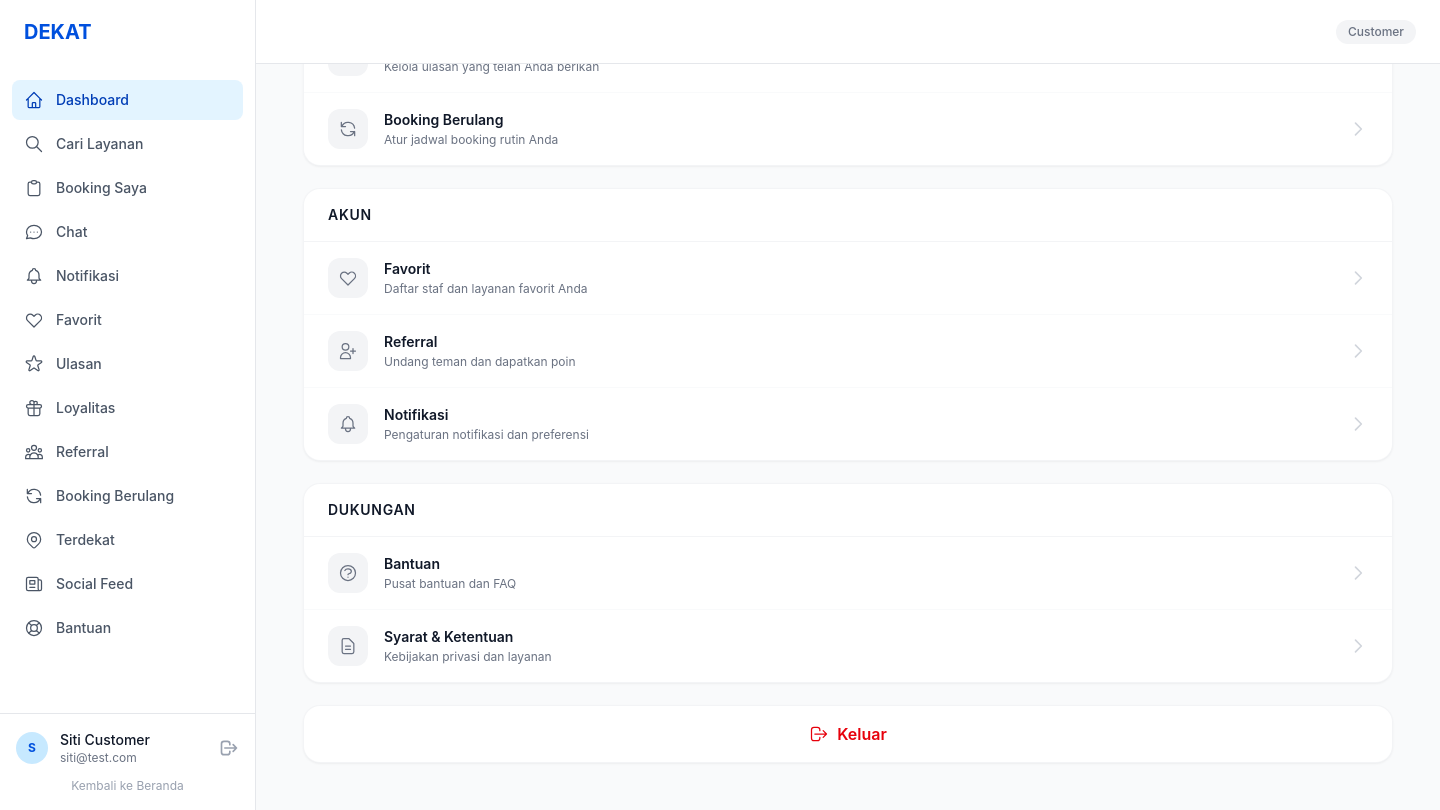
Test case: CustomerAccountPage › closes logout dialog when Batal is clicked
(page scrolled)
Click the button "Keluar". click: point(848, 734)
box: [304, 706, 1392, 762]
(page scrolled)
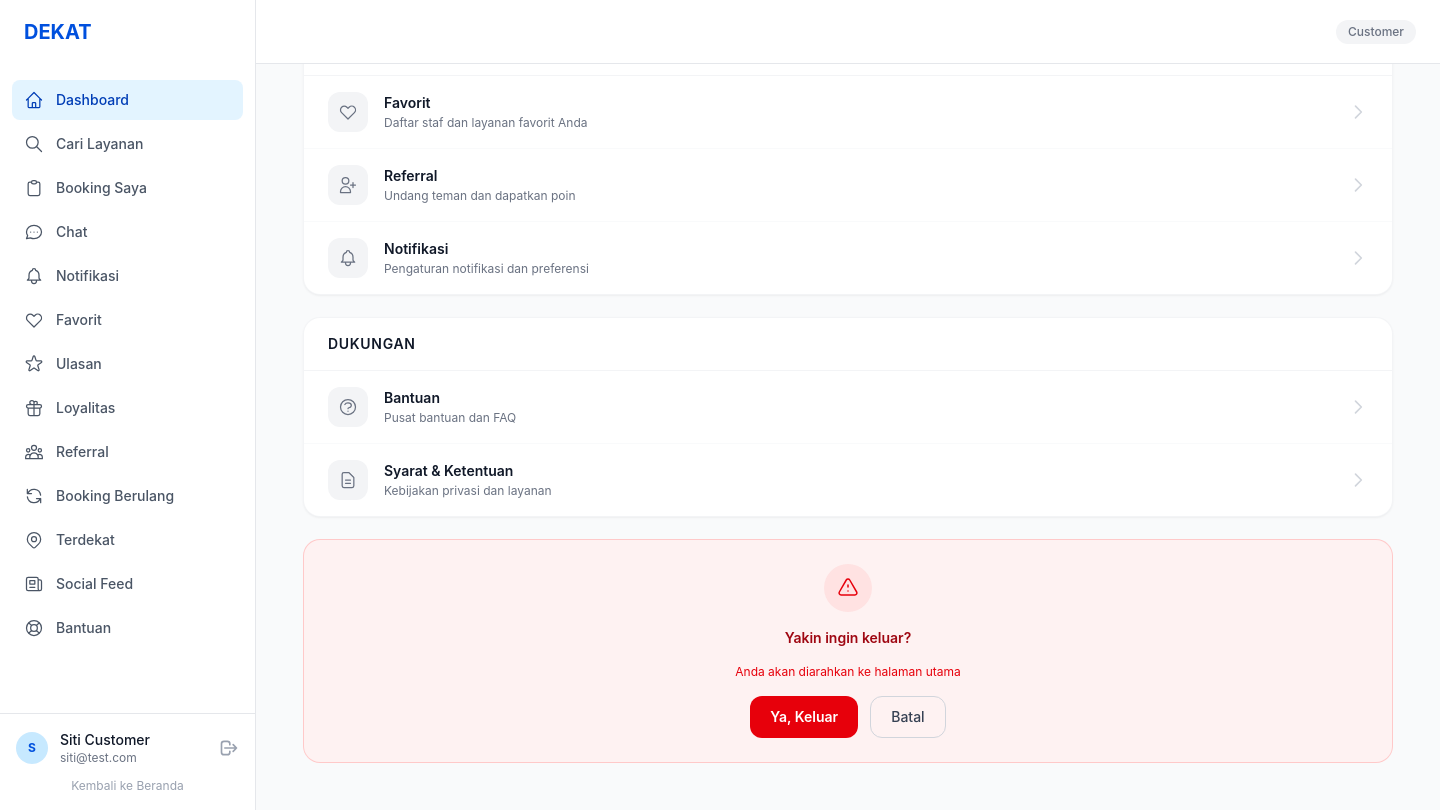
expect the button "Batal" is shown: met
Click the button "Batal". click: point(908, 717)
box: [870, 696, 946, 738]
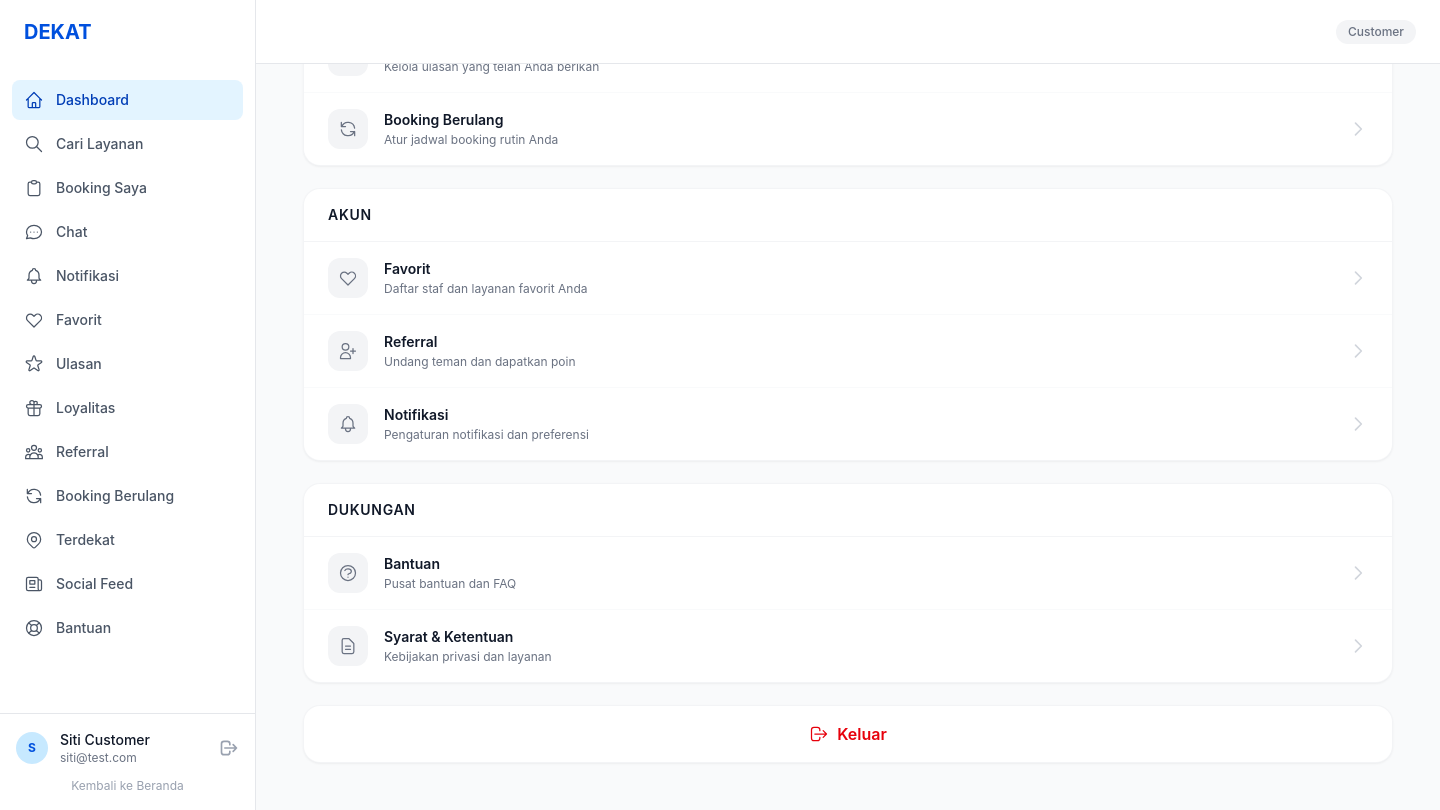
expect the text "Yakin ingin keluar?" is gone: met
